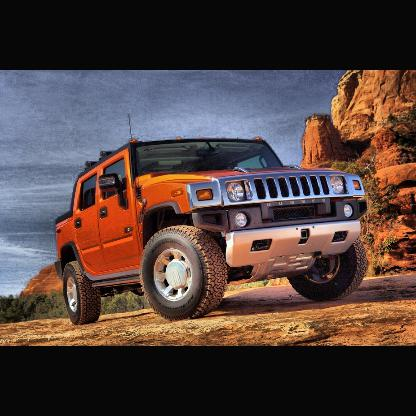HUMMER H2 SUT Crew Cab 2009: (57, 114, 369, 326)
